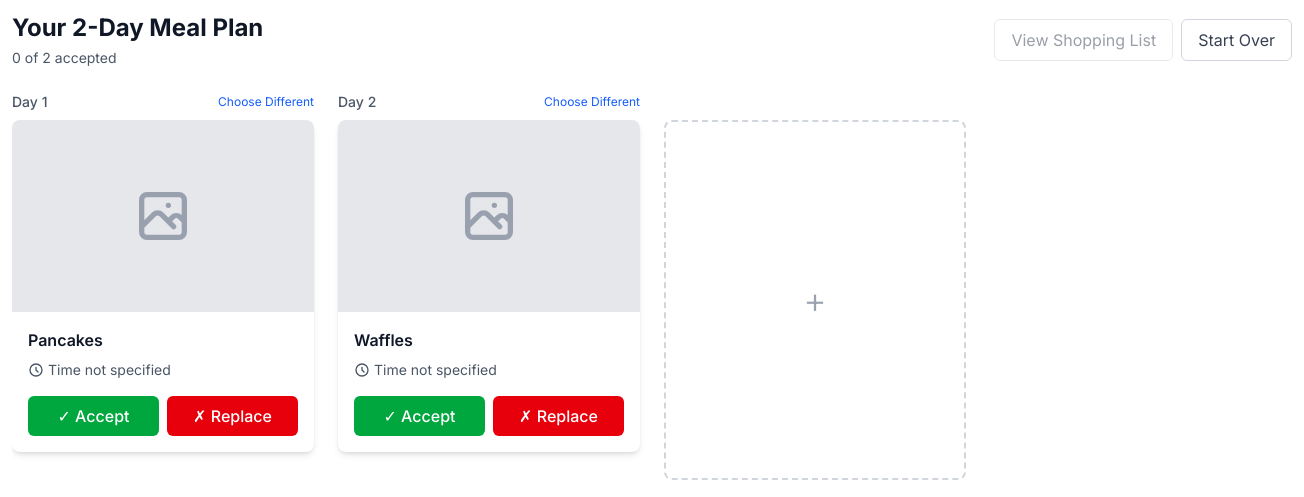
it: MealPlanView acceptance state › clicking Accept renders the accepted state for that card and updates the count
The width and height of the screenshot is (1304, 497).
expect the text "0 of 2 accepted" is shown: met, box [12,49,117,66]
# Accept the first recipe (Pancakes)
Click the button "✓ Accept" below "Pancakes". click: (94, 416)
box: [28,396,159,436]
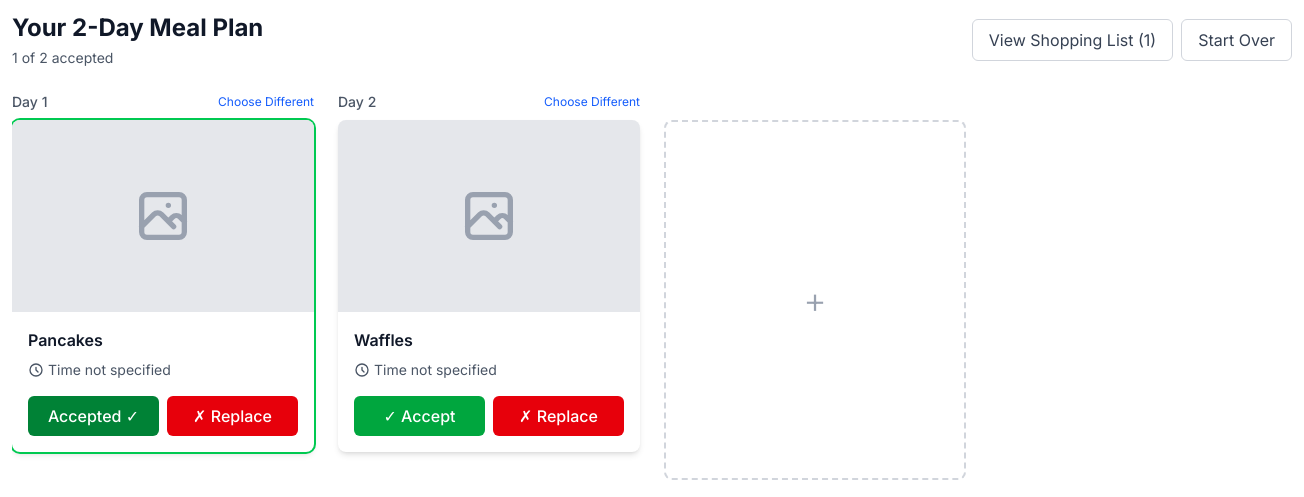
expect the text "Accepted ✓" is shown: met, box [28,396,159,436]
expect the text "1 of 2 accepted" is shown: met, box [12,49,113,66]
